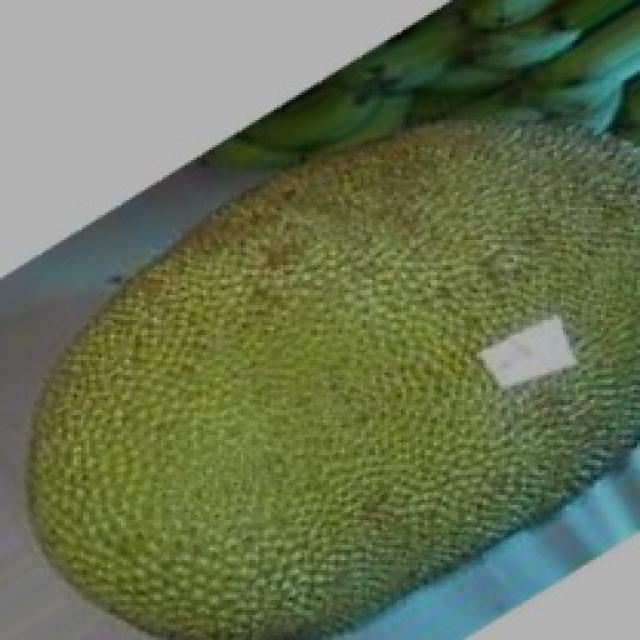Fruit: (0, 290, 354, 640), (221, 74, 640, 357)
